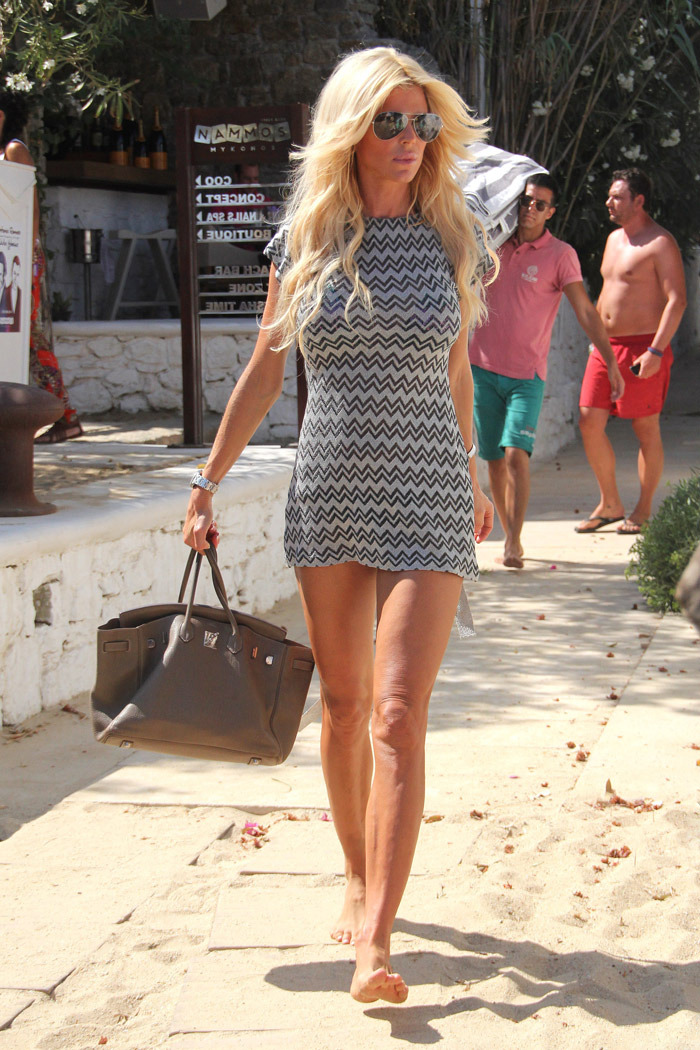Person: (178, 43, 495, 1018), (472, 176, 632, 576), (578, 176, 674, 528)
